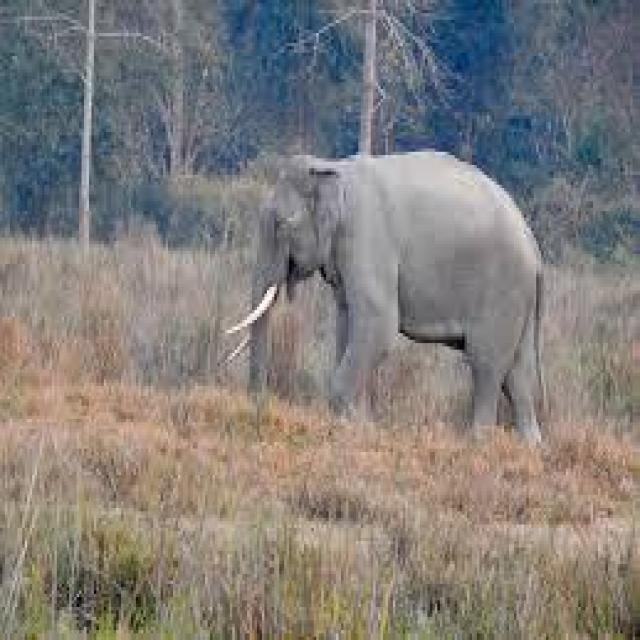Elephant: (230, 145, 561, 442)
